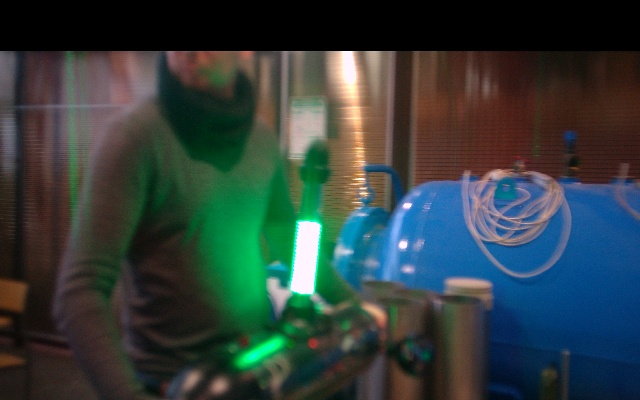green: (289, 219, 322, 299)
